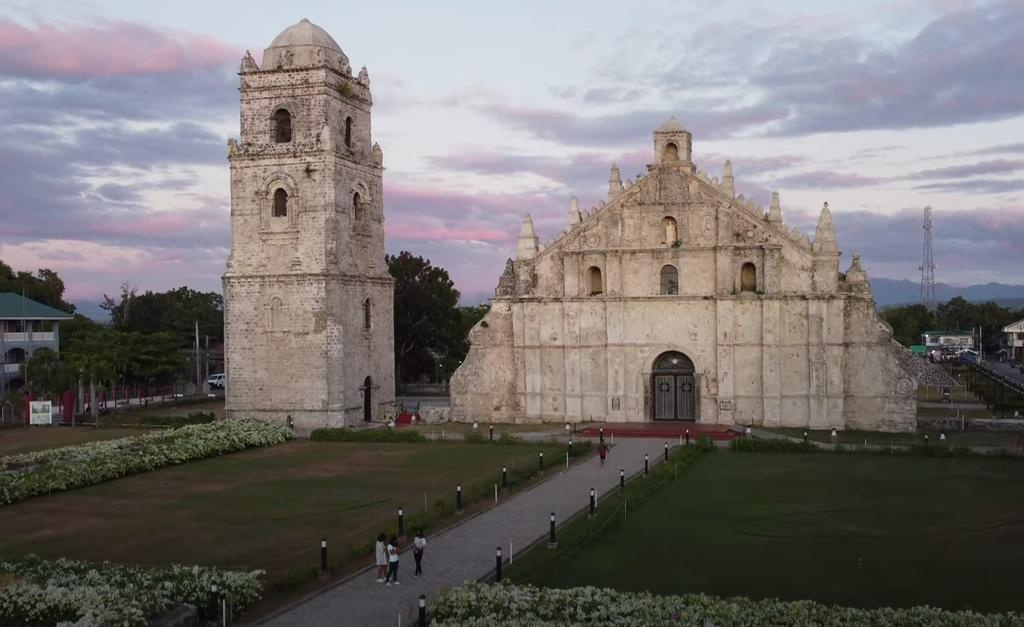paoay_church_paoay_ilocos_norte: (216, 4, 925, 442)
